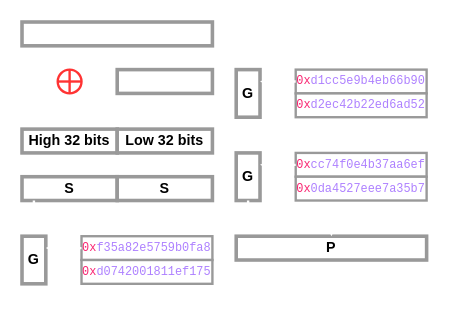
This 449x327 diagram has some shape labels left out. Here are the shapes that lost their labels. From the top down, the centre of each, then its label:
At (x=117, y=33): "Half Block".
At (x=164, y=81): "Key".
